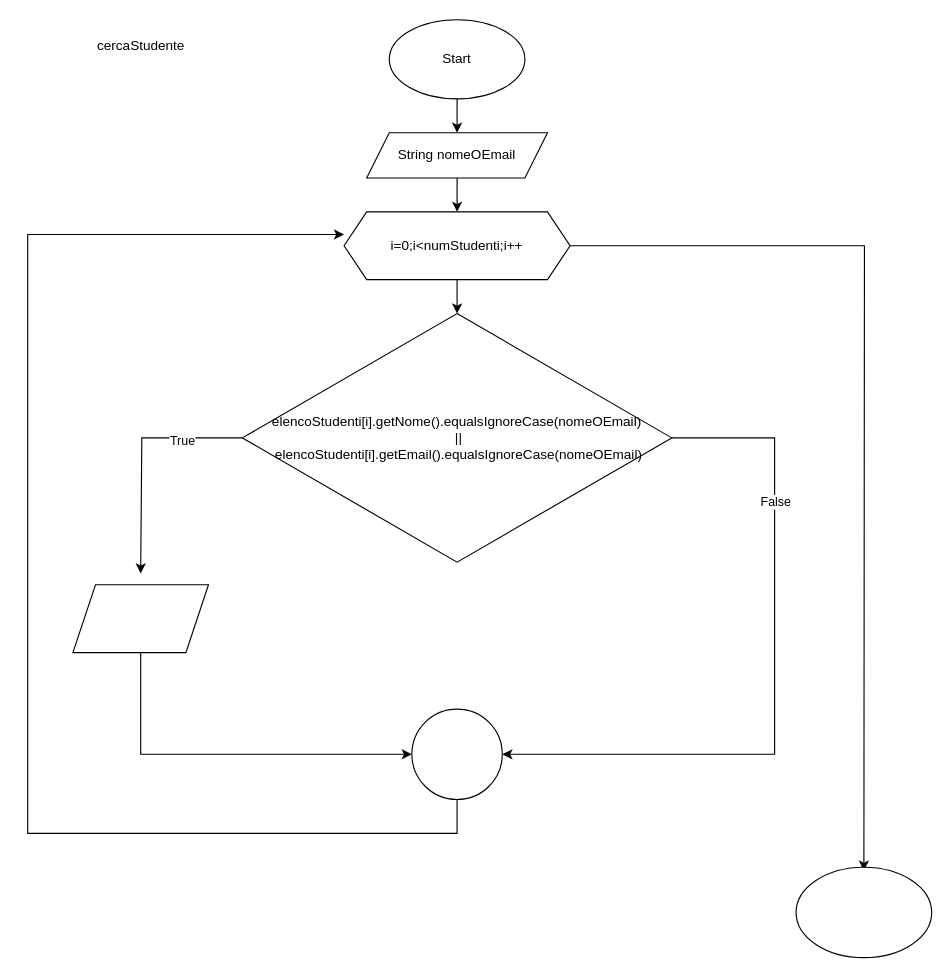
This 951x977 diagram has some shape labels left out. The centre of each missing label's shape, as x and y in pixels:
End: (x=863, y=912)
return elencoStudenti[]: (x=140, y=618)
